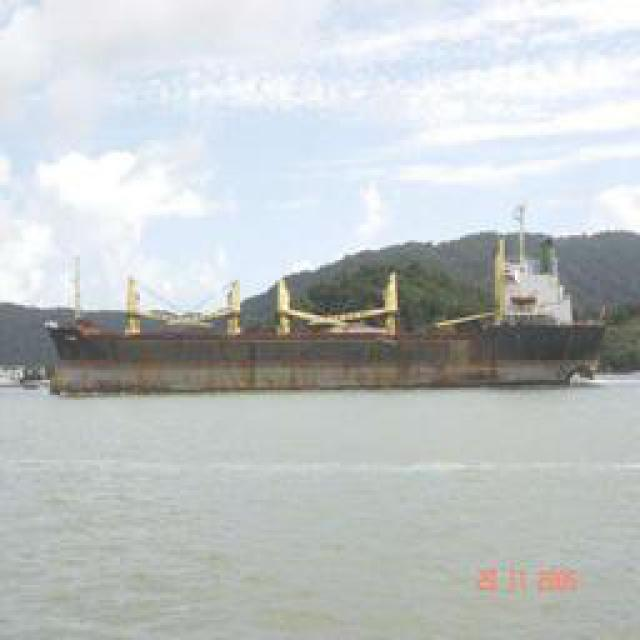Ship: (42, 308, 600, 393)
